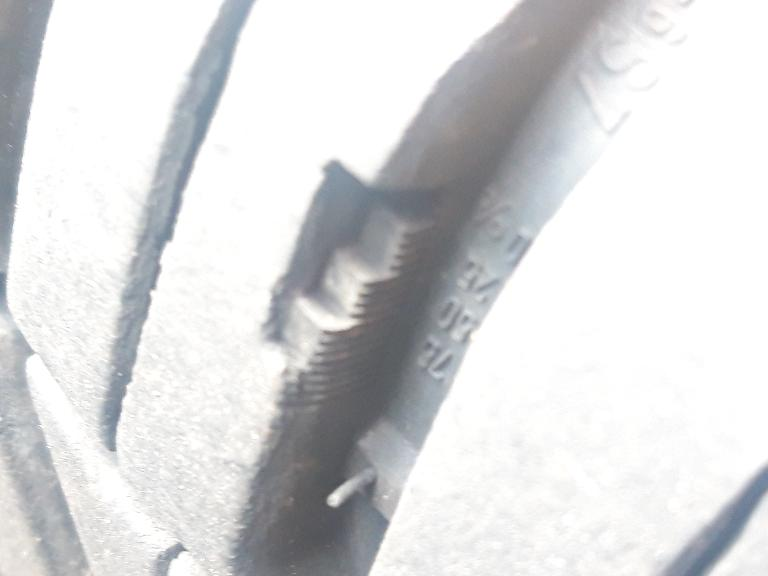temoin:80: (243, 148, 473, 424)
